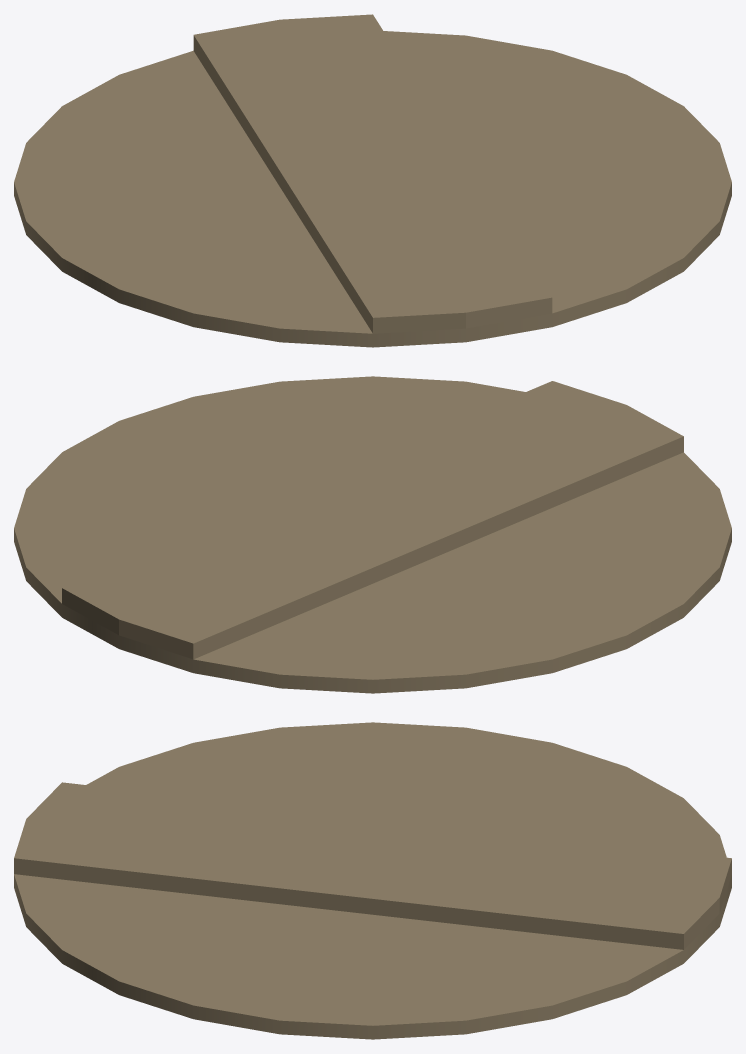
The model's file is SoupPotLid.FBX.
The picture shows the model from 3 angles, top to bottom: view 1: azimuth 30°, elevation 25°; view 2: azimuth 150°, elevation 25°; view 3: azimuth 270°, elevation 25°; orthographic projection.
Parts seen in each view (by area): view 1: SoupPotLid; view 2: SoupPotLid; view 3: SoupPotLid.
Part boxes in pixels (x1=…): SoupPotLid: x1=14, y1=14, x2=731, y2=347; SoupPotLid: x1=14, y1=376, x2=731, y2=693; SoupPotLid: x1=14, y1=722, x2=731, y2=1039.
Size of the model in its own units: 21.97 by 1 by 21.97.
